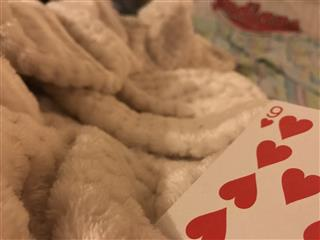NineOfHearts: (154, 98, 320, 240)
